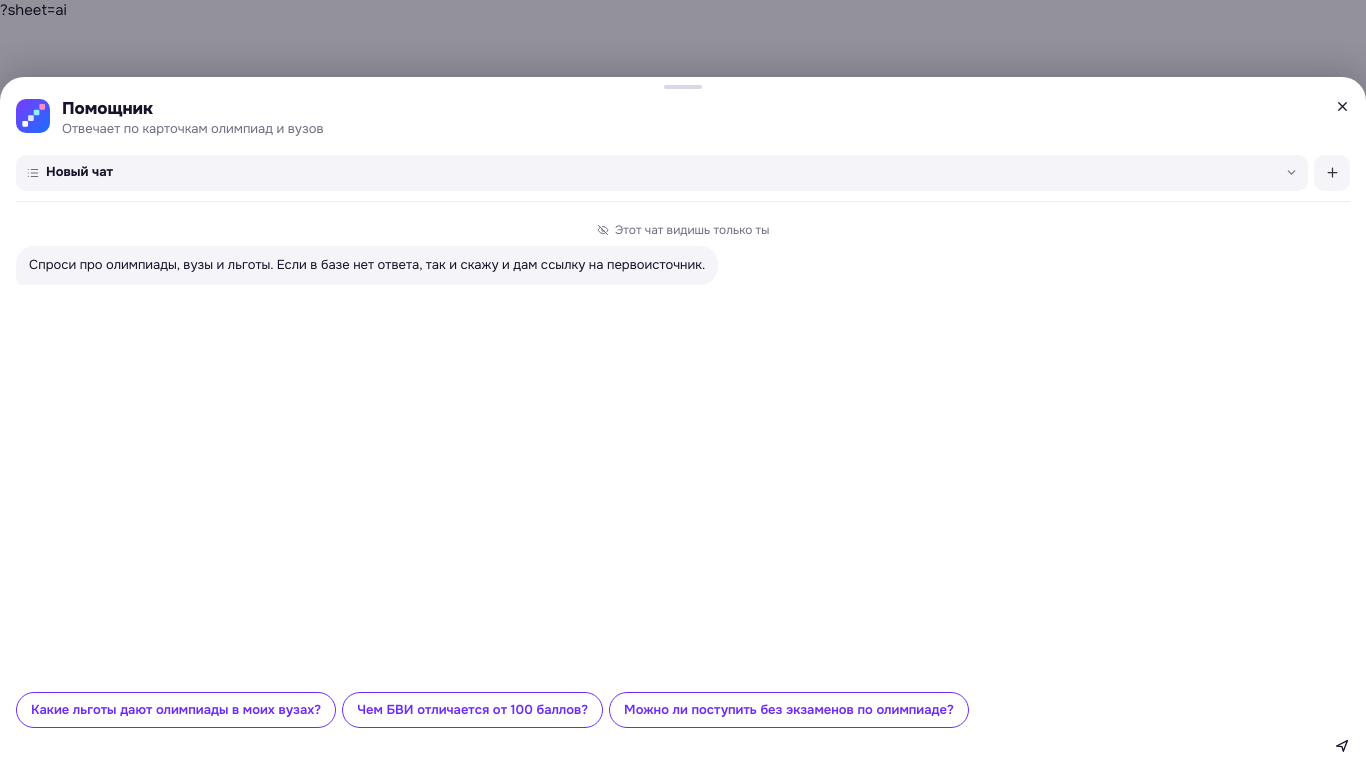
показывает вопрос сразу, не дожидаясь ответа
expect the button named "Чаты:" reads "Новый чат": met, box [16, 154, 1308, 190]
Click the button "Чем БВИ отличается от 100 баллов?": (473, 710) [342, 692, 603, 728]
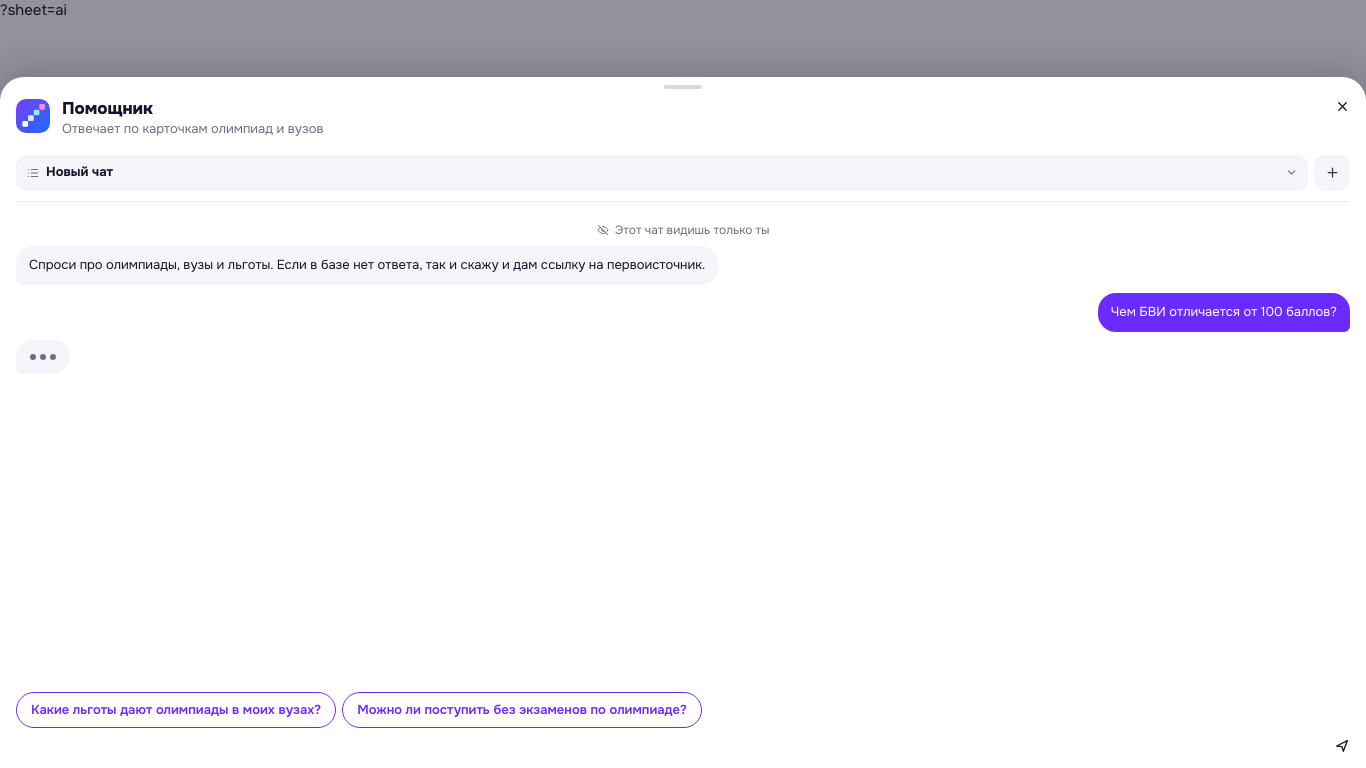
expect the text "Чем БВИ отличается от 100 баллов?" is shown: met, box [1111, 303, 1337, 322]
expect the element named "Помощник печатает" is shown: met, box [16, 340, 70, 374]
